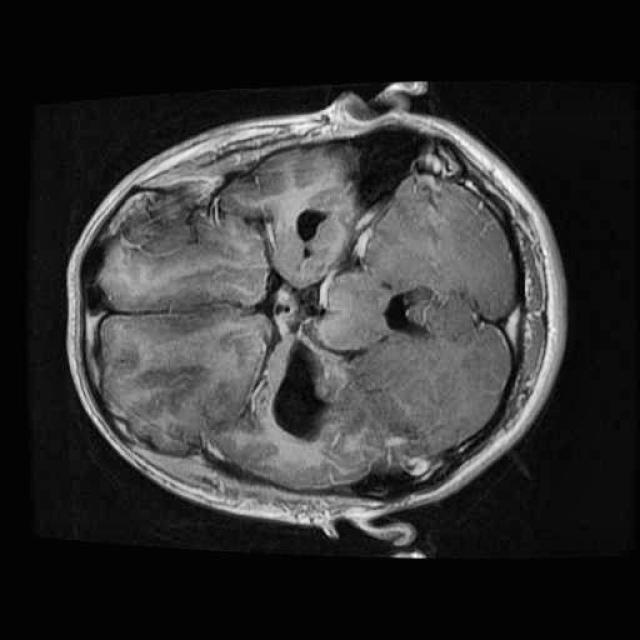Non-Tumor: (268, 326, 350, 454)
